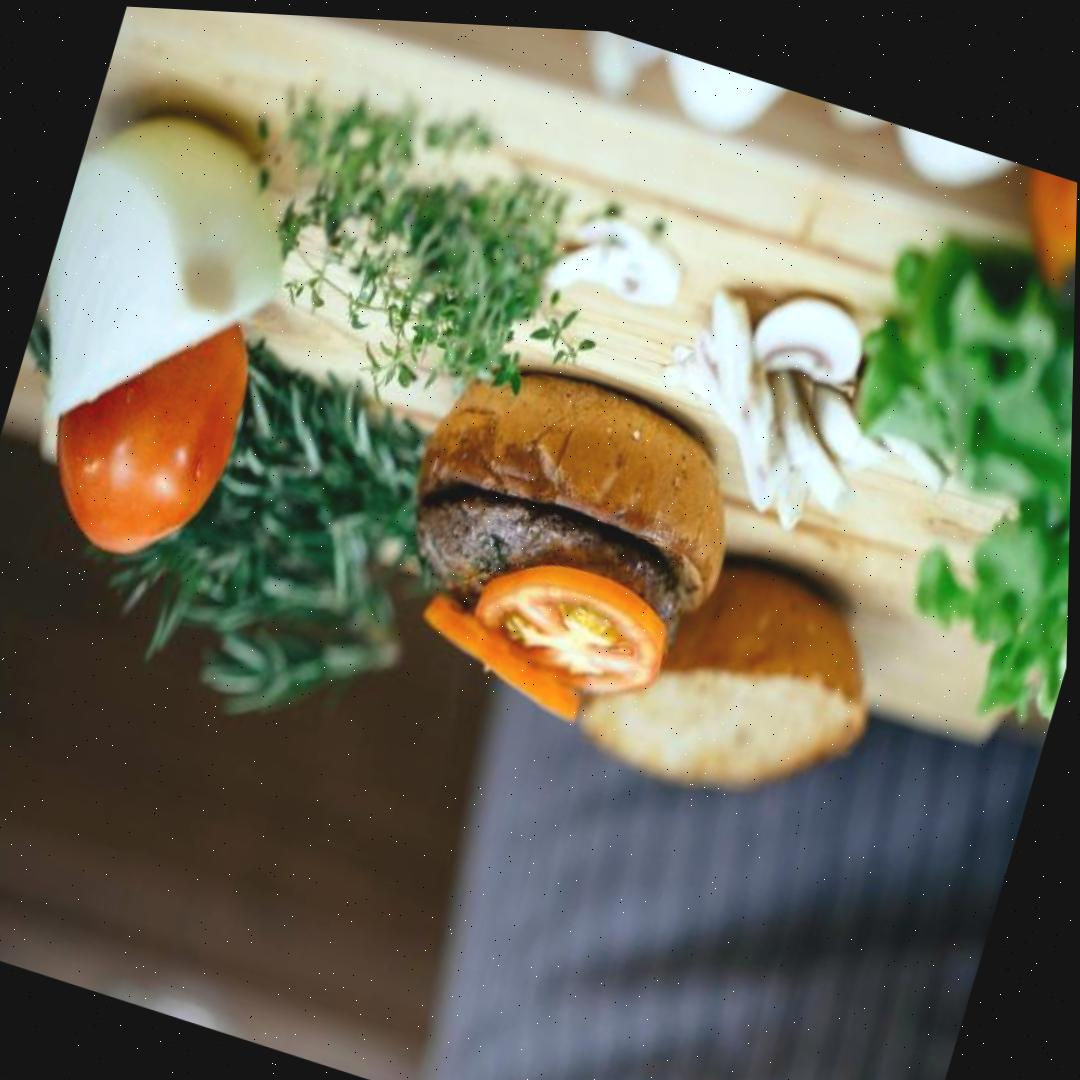matang: (25, 233, 278, 584)
